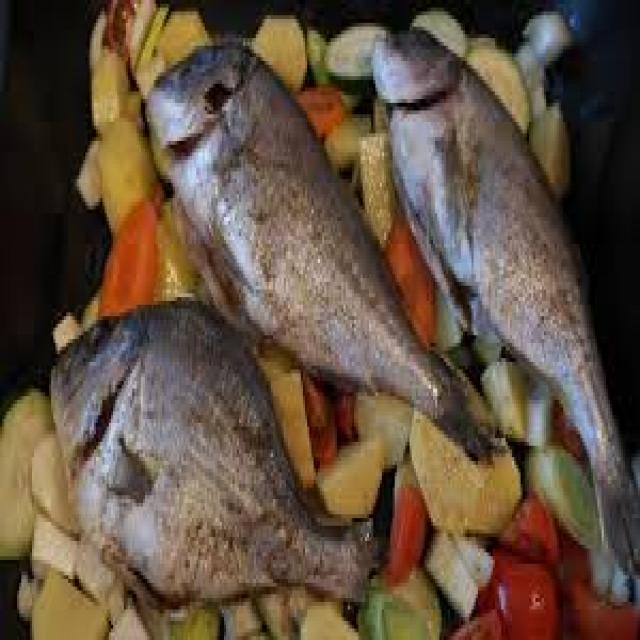organic waste: (77, 0, 572, 438), (4, 366, 638, 636), (139, 34, 501, 469), (373, 31, 638, 594), (45, 297, 375, 613)
